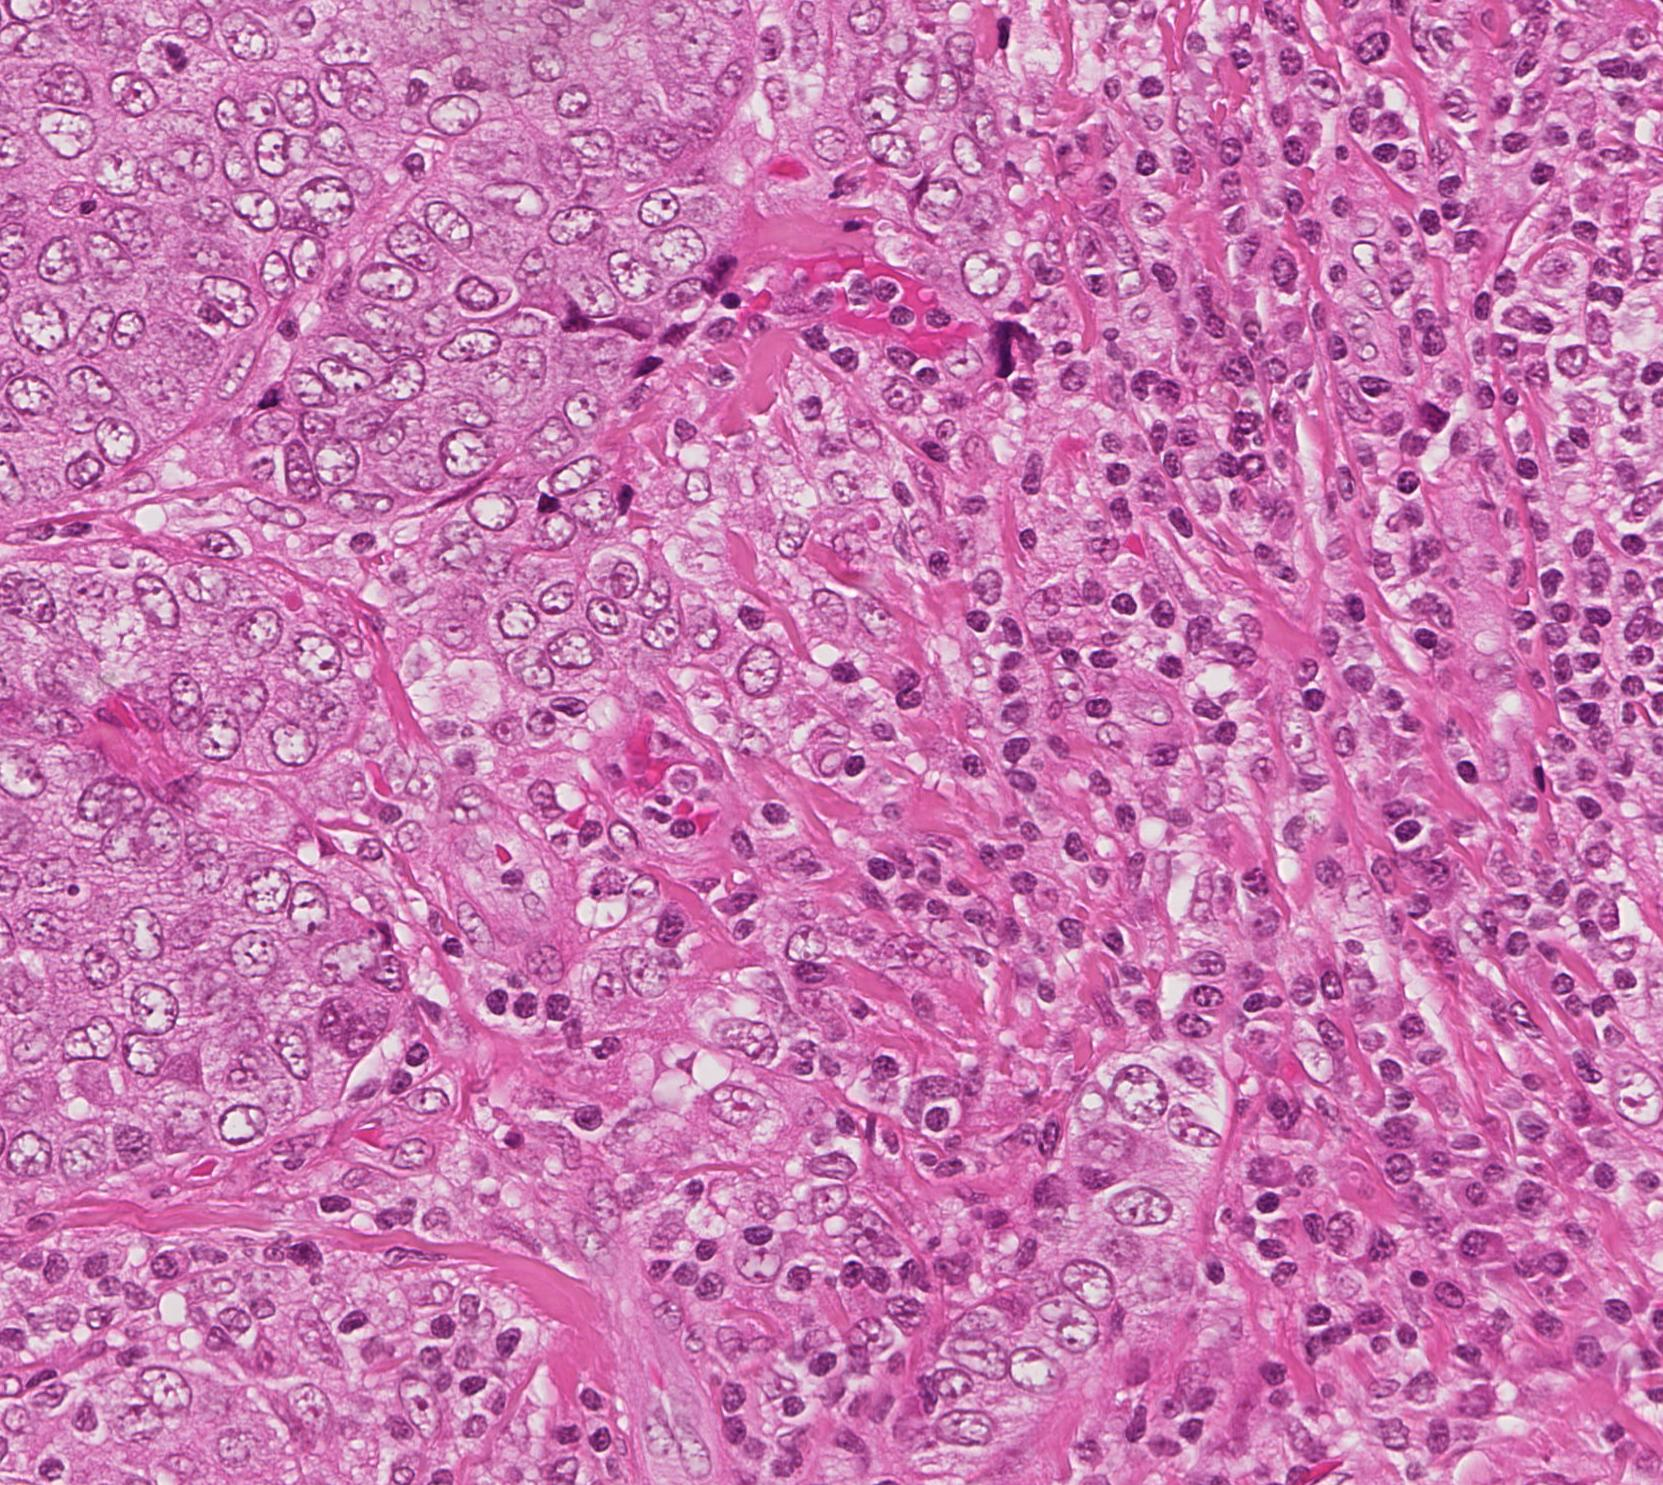mitosis: (148, 32, 208, 92)
